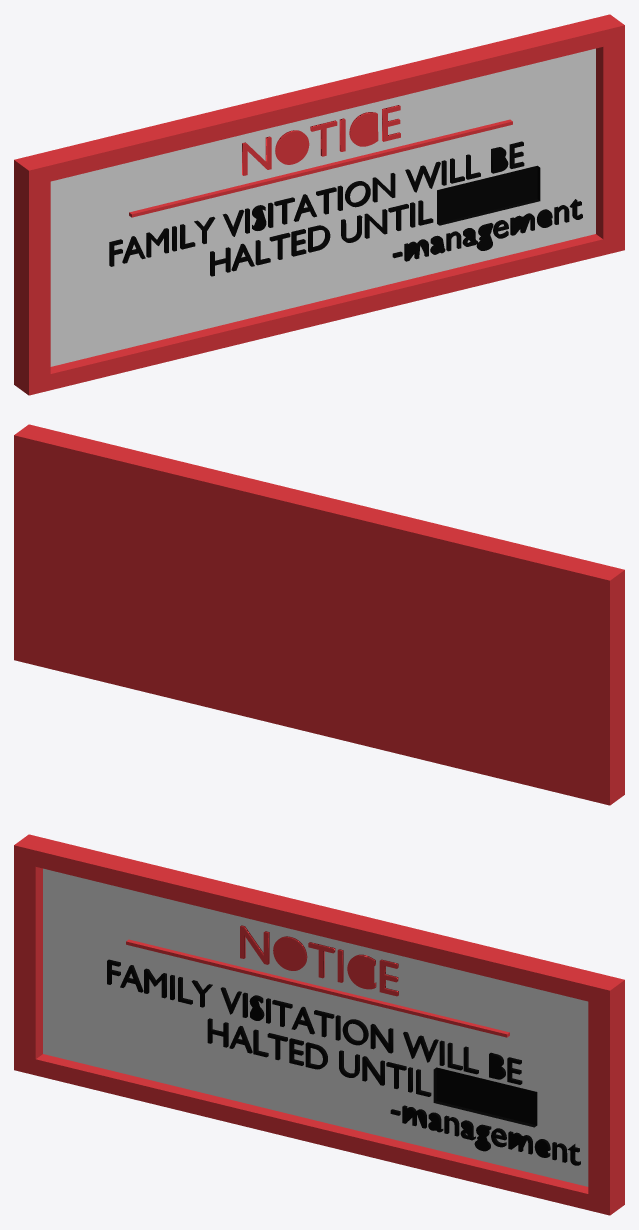
The model's file is FamilyVisitaionWillBeHalted.fbx.
3 views of the same model, one above another, from view 1: azimuth 30°, elevation 25°; view 2: azimuth 150°, elevation 25°; view 3: azimuth 330°, elevation 25° (orthographic).
Parts seen in each view (by area): view 1: Inner Board, Outter Board.001, FAMILY VISITATIN; view 2: Outter Board.001; view 3: Inner Board, Outter Board.001, FAMILY VISITATIN.
Boxes of the visible parts, left/top/right/bottom form: Inner Board: left=50, top=48, right=595, bottom=366; Outter Board.001: left=14, top=14, right=624, bottom=395; FAMILY VISITATIN: left=109, top=141, right=582, bottom=276; Outter Board.001: left=14, top=424, right=624, bottom=805; Inner Board: left=43, top=868, right=588, bottom=1186; Outter Board.001: left=14, top=834, right=624, bottom=1215; FAMILY VISITATIN: left=107, top=959, right=580, bottom=1165.
Bounding box in the file's own units: 123 × 44.34 × 5.32.
